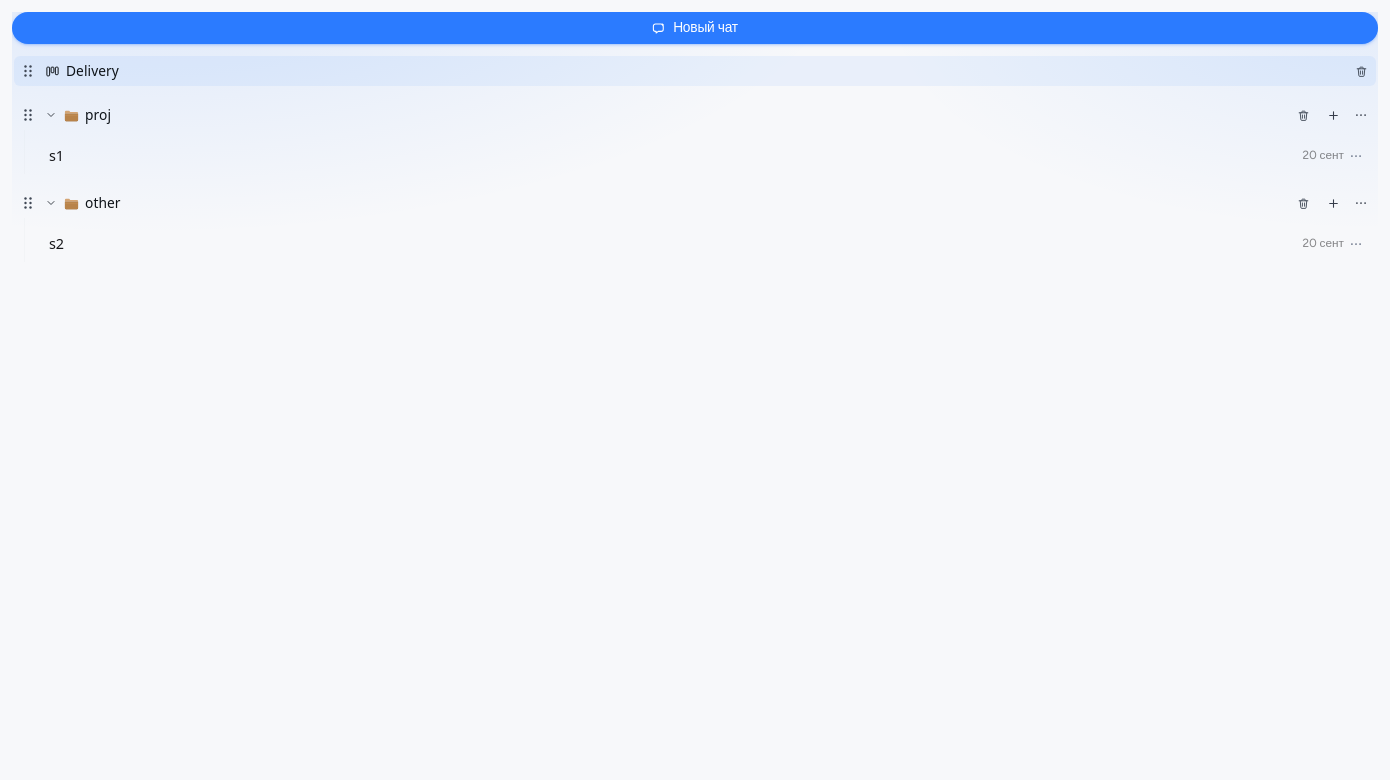
Test: board row menu › closes when the reader presses anywhere else
Right-click the element showing "Delivery" at (695,71), box [14,56,1376,86]
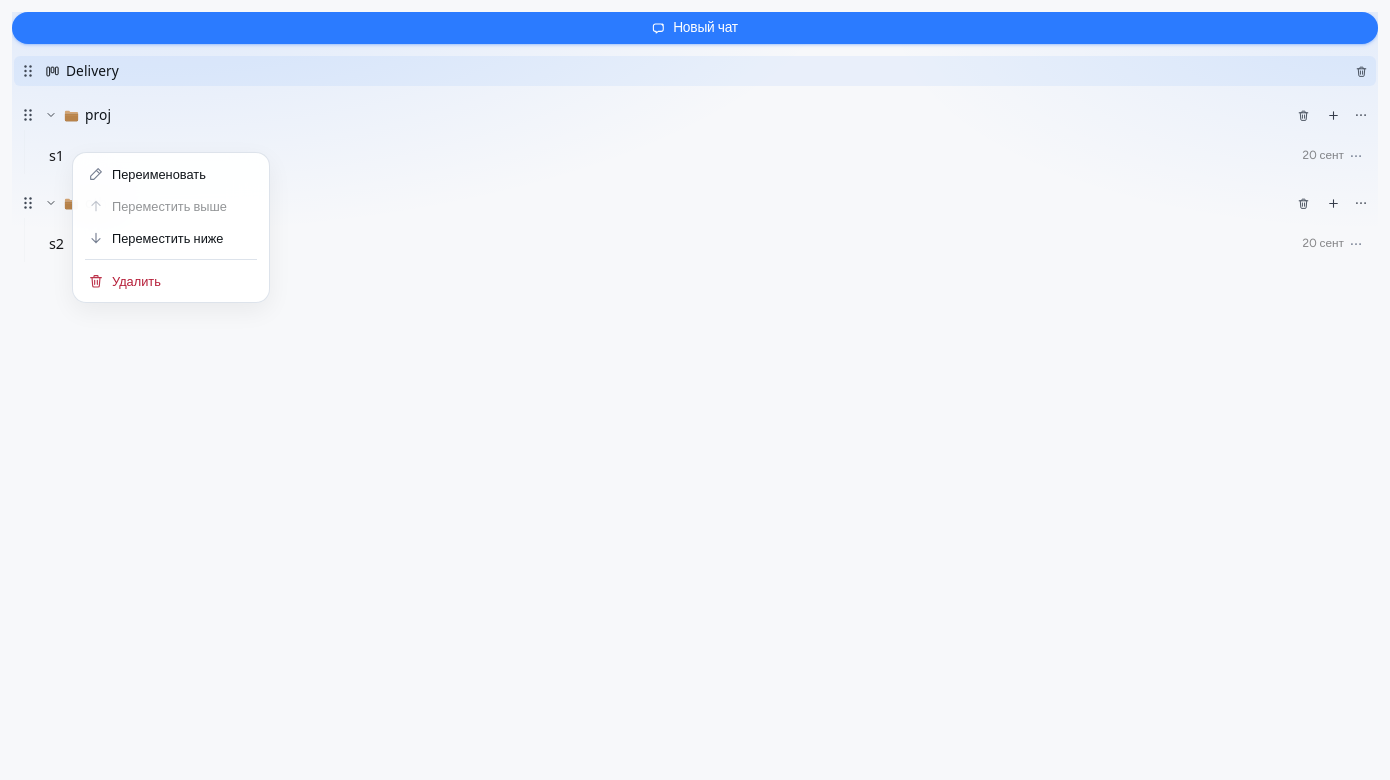
Result: the menu shows "Переименовать" at [79,159,263,189]
Press the mouse on the element that starts with "Новый чат" at (695,396), box [12,12,1378,779]
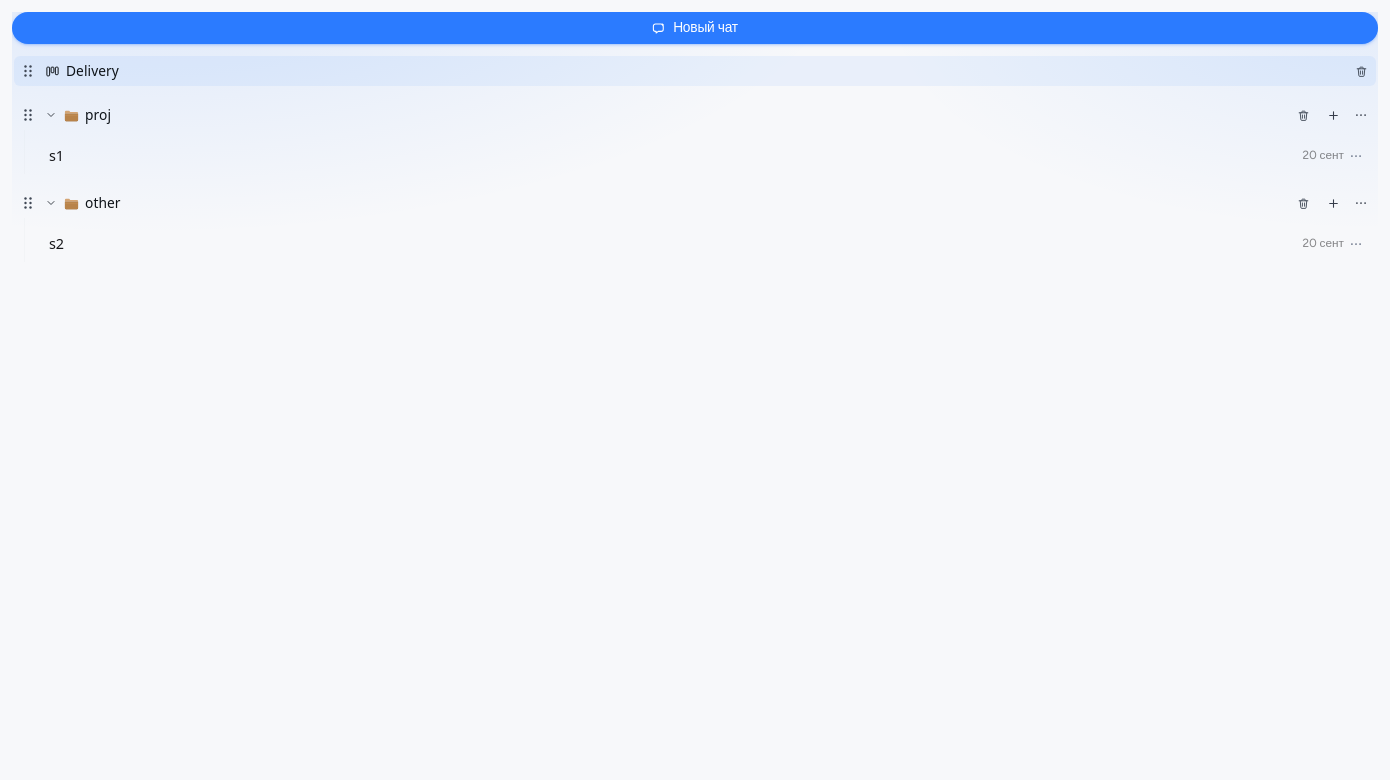
Result: the menu is gone
